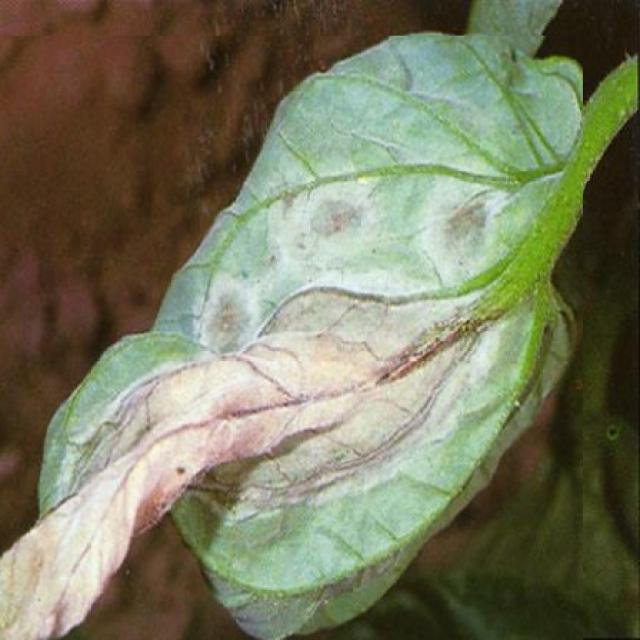Late Blight: (0, 35, 583, 640)
